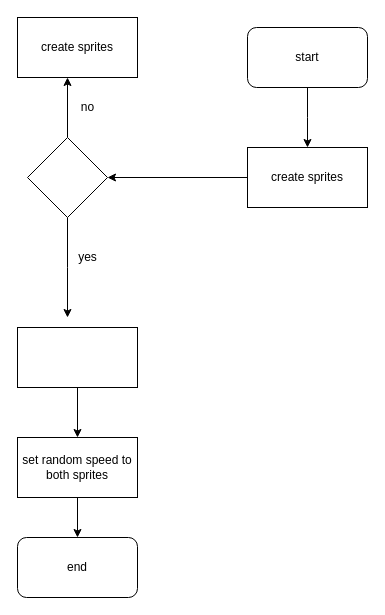
Image size: 385x615. Some labels were removed from this diagram. Here are the shapes that lost their labels. From the top down, the centre of each, then its label:
At [67,177]: "sprites created".
At [77,357]: "code it so there is a random speed".
